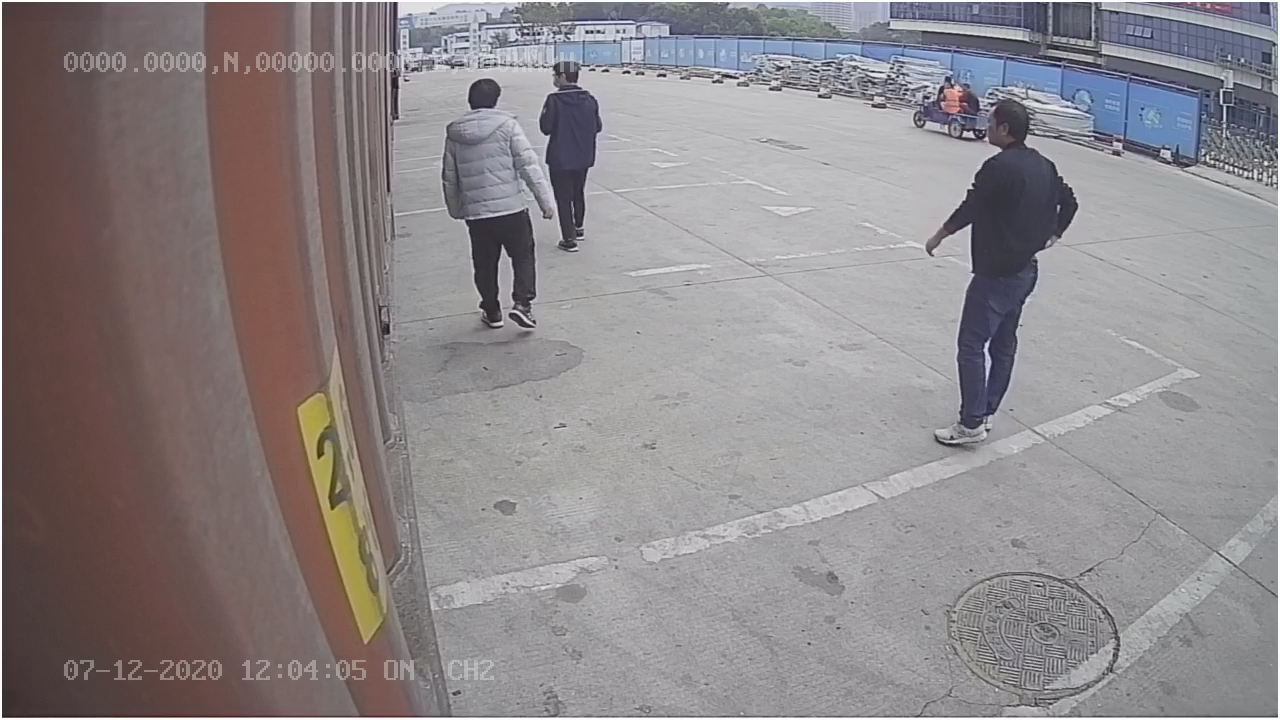person: (924, 93, 1079, 453), (437, 76, 552, 331)
